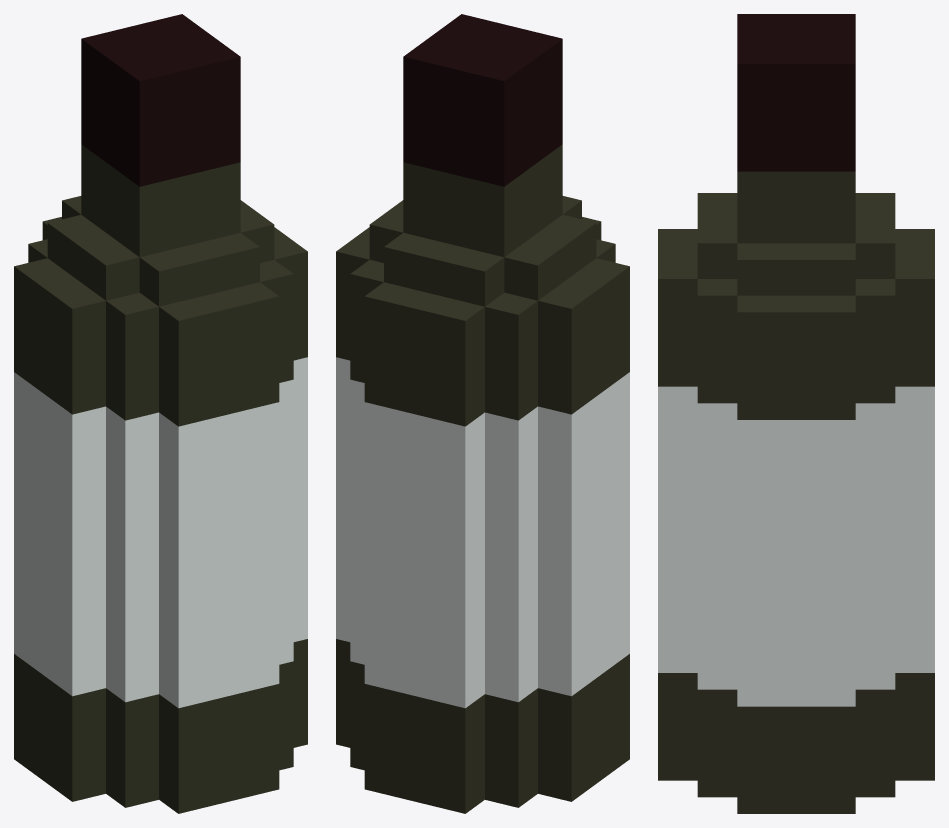
Rendered from Vin.obj.
The picture shows the model from 3 angles, left to right: view 1: azimuth 30°, elevation 25°; view 2: azimuth 150°, elevation 25°; view 3: azimuth 270°, elevation 25°; orthographic projection.
Parts seen in each view (by area): view 1: Vin; view 2: Vin; view 3: Vin.
Boxes of the visible parts, x1=… form: Vin: x1=14, y1=14, x2=307, y2=813; Vin: x1=336, y1=14, x2=629, y2=813; Vin: x1=658, y1=14, x2=934, y2=813.
Size of the model in its own units: 7 by 20 by 7.
1 material, 1 textured.
